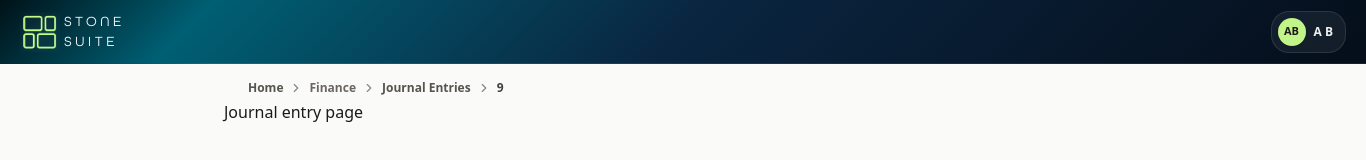
Test: MainLayout breadcrumb links › still navigates when a crumb whose page exists is clicked
This screenshot has width=1366, height=160.
Click the link "Journal Entries". click: (426, 88)
box: [382, 79, 471, 96]
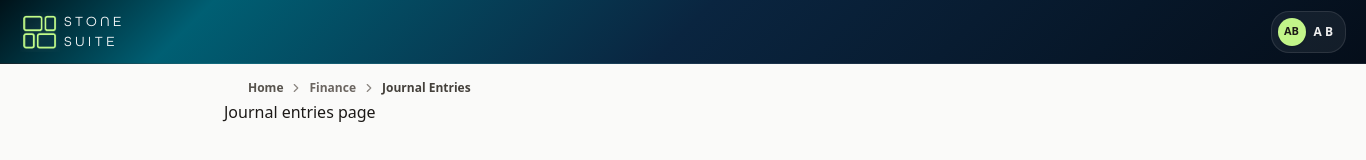
Result: the text "Journal entries page" is shown at [224, 101, 376, 123]
